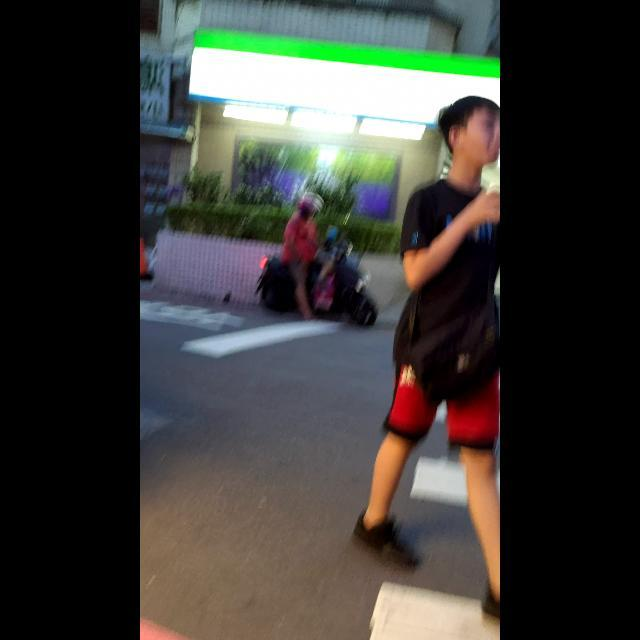sidewalk: (365, 332, 500, 640)
